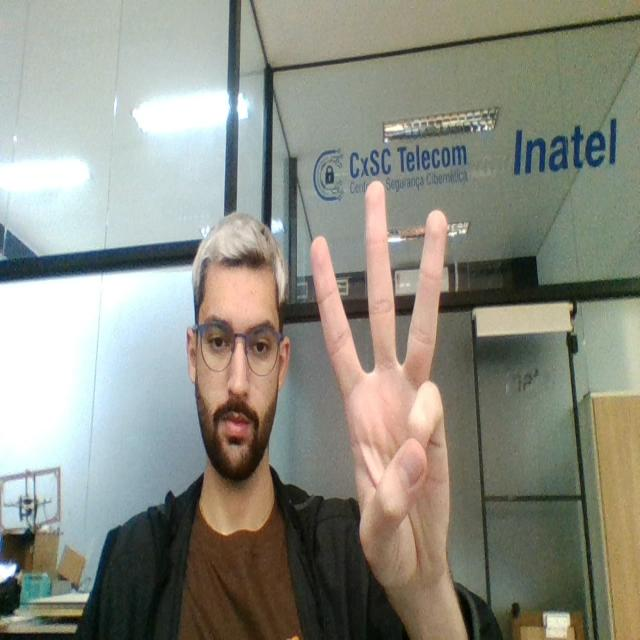W: (305, 172, 478, 602)
